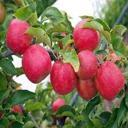apple: (50, 60, 78, 97)
